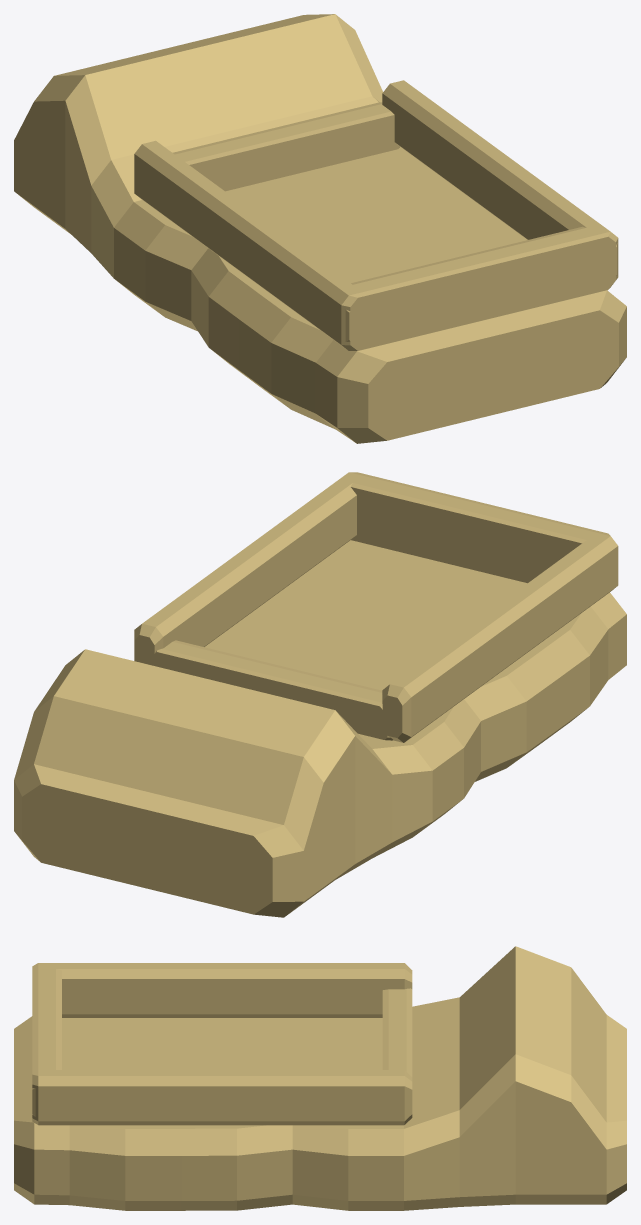
File: tallow_heavy_c.glb
3 renders of one model, top to bottom at view 1: azimuth 30°, elevation 25°; view 2: azimuth 150°, elevation 25°; view 3: azimuth 270°, elevation 25°, orthographic. The views are drawn at different scales.
Parts seen in each view (by area): view 1: tallow_heavy_c; view 2: tallow_heavy_c; view 3: tallow_heavy_c.
Part boxes in pixels (bbox=[...]): tallow_heavy_c: bbox=[14, 14, 626, 443]; tallow_heavy_c: bbox=[14, 472, 626, 917]; tallow_heavy_c: bbox=[14, 946, 626, 1210].
Bounding box in the file's own units: 4.2 × 2.14 × 7.9.
